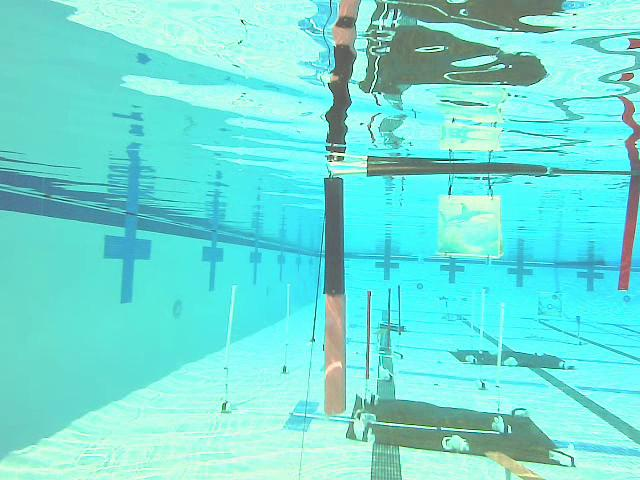black_poster: (364, 289, 374, 393), (383, 288, 394, 353)
divider: (620, 180, 640, 292)
left_gate_poster: (325, 178, 347, 415)
shark: (440, 190, 501, 257)
white_poster: (218, 285, 237, 415), (491, 302, 507, 424), (480, 289, 494, 393), (280, 280, 291, 378)
